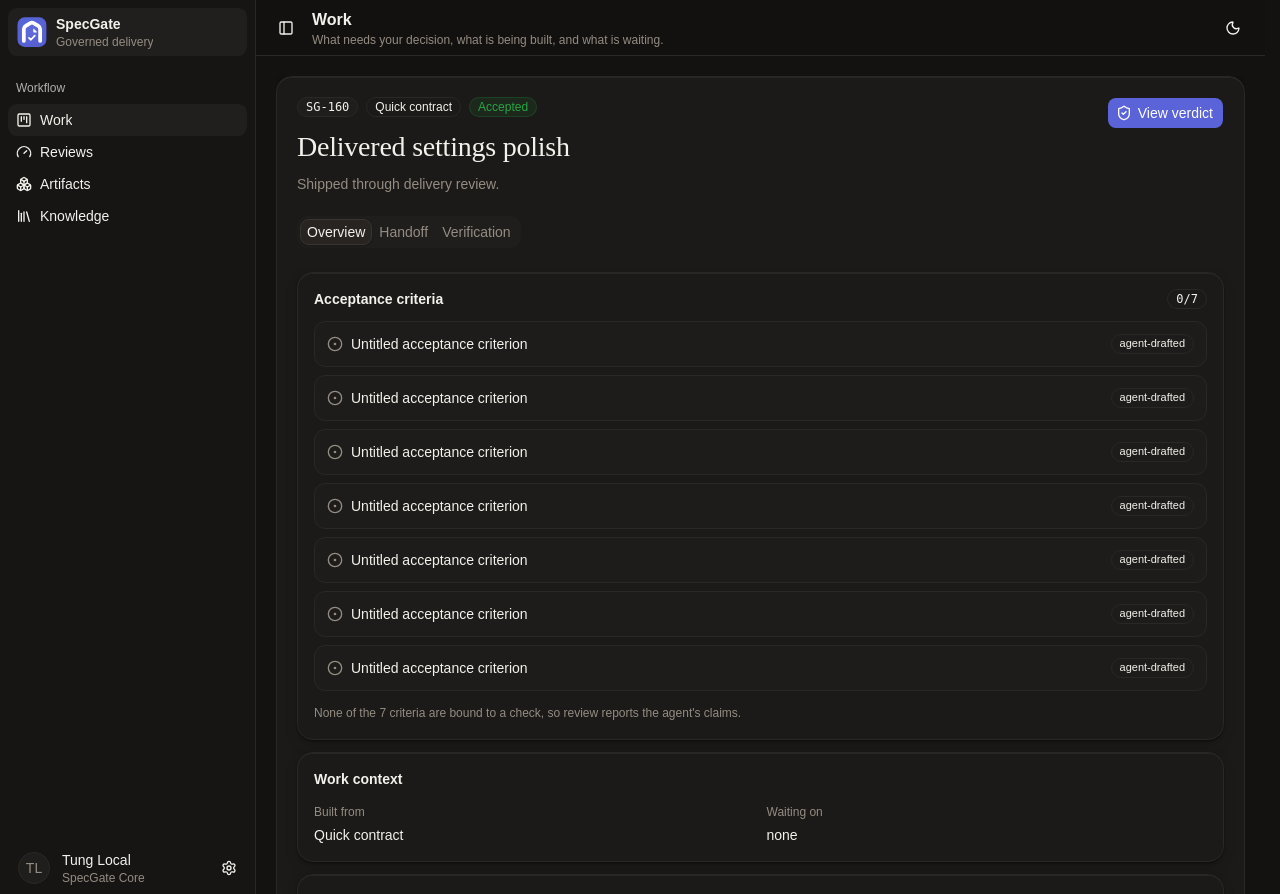
SpecGate UI shell: work review › shows a View verdict action without an unsupported review-summary prompt for delivered work
Check: the heading "Delivered settings polish" is shown, box [297,129,570,164]
Click the button "View verdict": (1165, 113) [1107,97,1224,129]
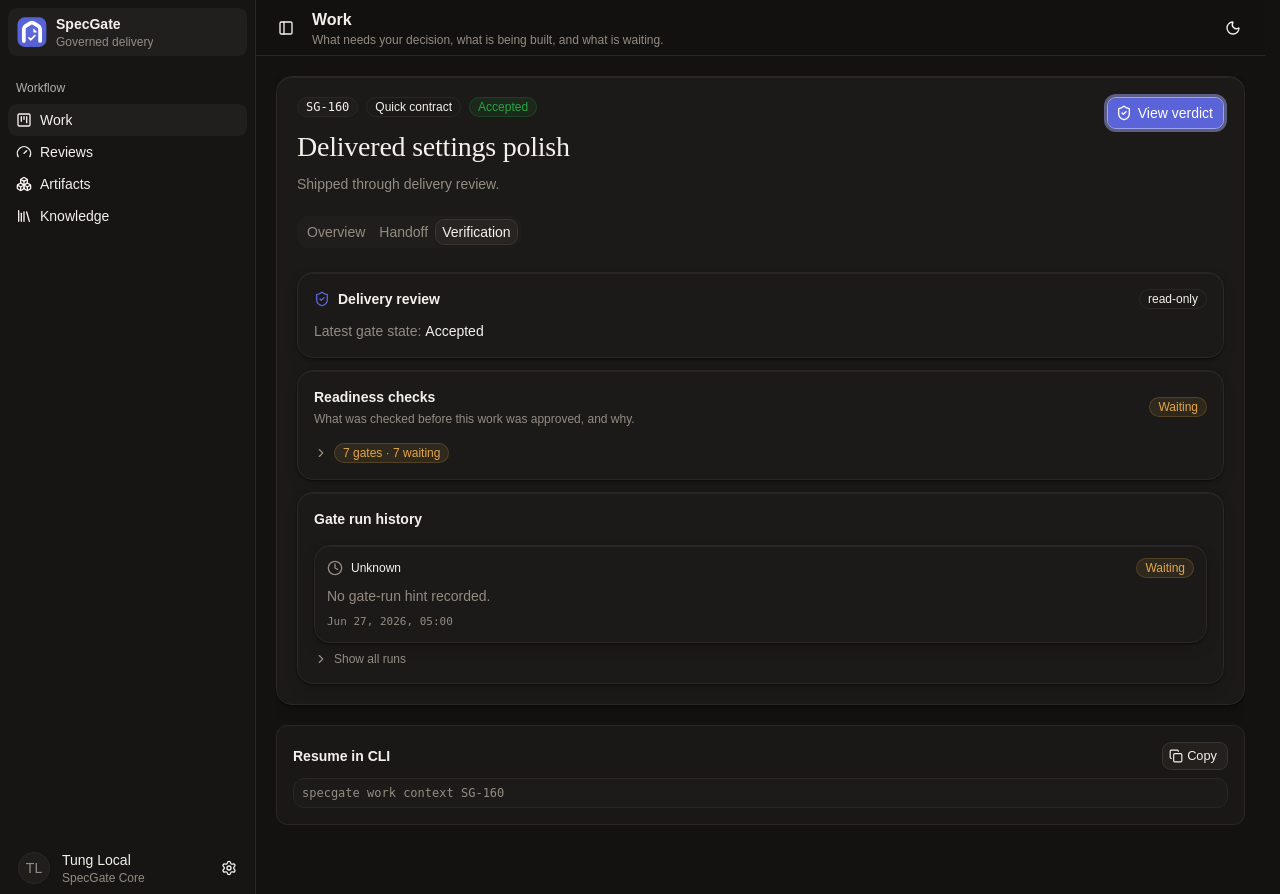
Check: the tab "Verification" is shown, box [435,219,518,245]
Check: the heading "Delivery review" is shown, box [338,289,440,309]
